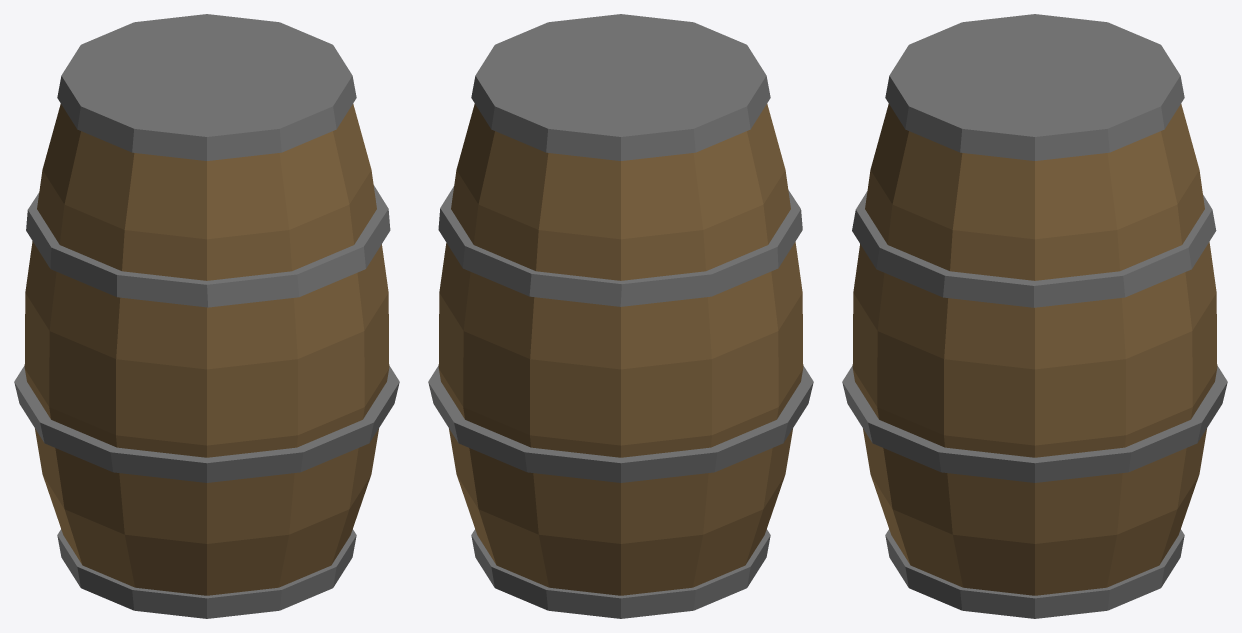
The model's file is Barrel.glb.
3 renders of one model, left to right at view 1: azimuth 30°, elevation 25°; view 2: azimuth 150°, elevation 25°; view 3: azimuth 270°, elevation 25°, orthographic.
Parts seen in each view (by area): view 1: Barrel; view 2: Barrel; view 3: Barrel.
Boxes of the visible parts, x1,y1,x2,y2 form: Barrel: (14,14,399,618); Barrel: (428,14,813,618); Barrel: (842,14,1227,618).
Size of the model in its own units: 0.1032 by 0.1423 by 0.1032.
